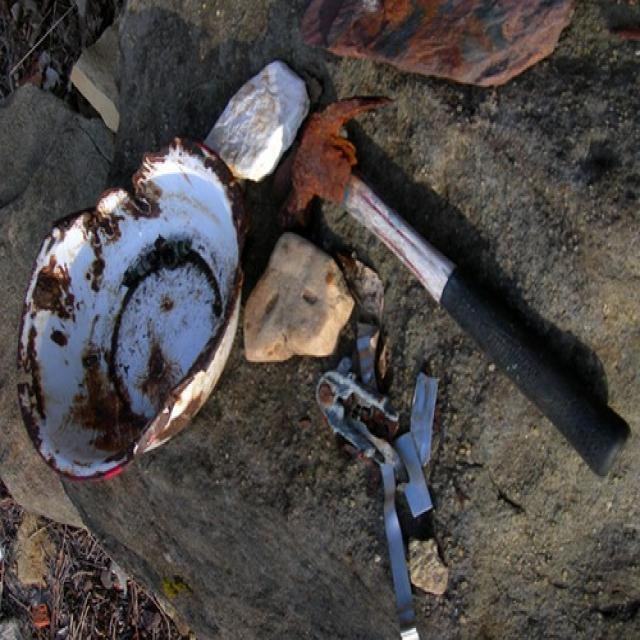hammer: (260, 75, 636, 488)
